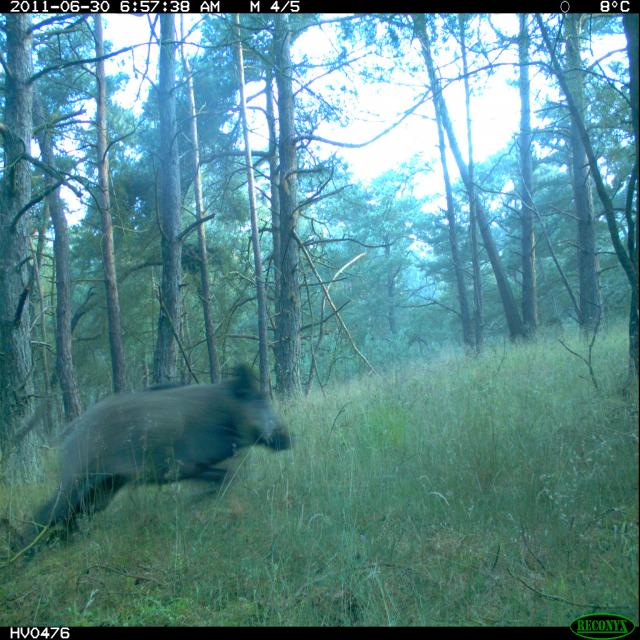boar: (7, 331, 301, 565)
